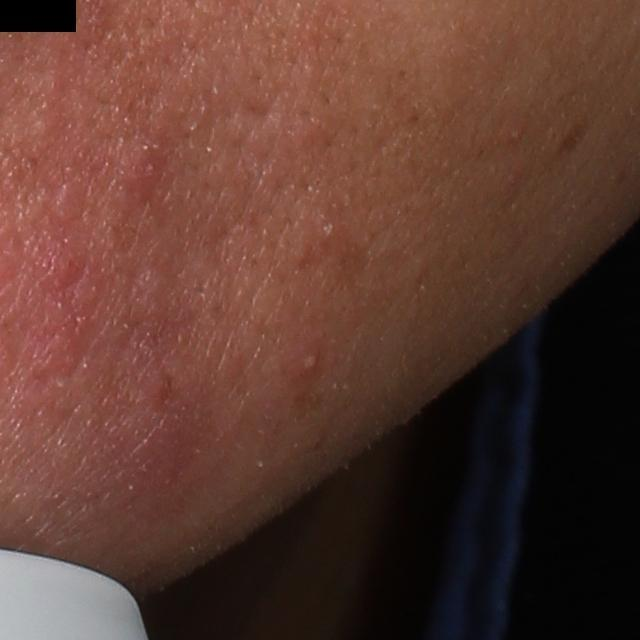pustule: (293, 337, 329, 377)
